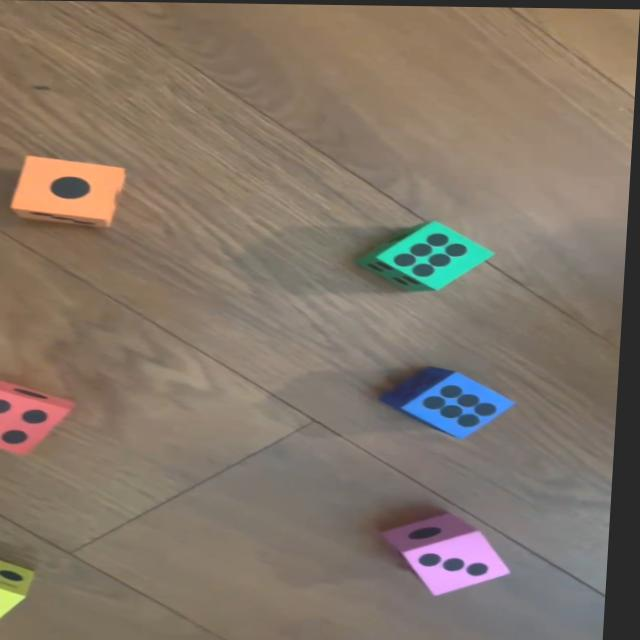blue_block: (388, 365, 522, 437)
red_block: (0, 380, 80, 456)
